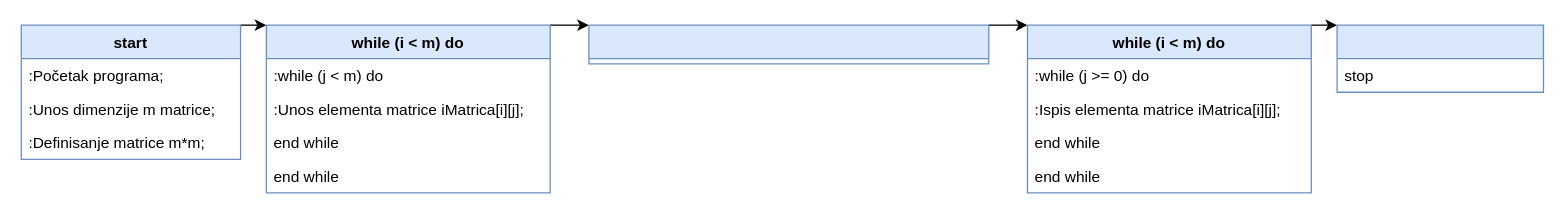
The diagram is 1565 pixels wide and 214 high, and some of its shapes have lost their labels. The box of each missing label's shape, as (x1, y1, x2, y2) in pixels:
:Kraj programa;: (1336, 24, 1543, 92)
:Prelazak na ispis matrice sa obrnutim kolonama;: (588, 24, 989, 64)
